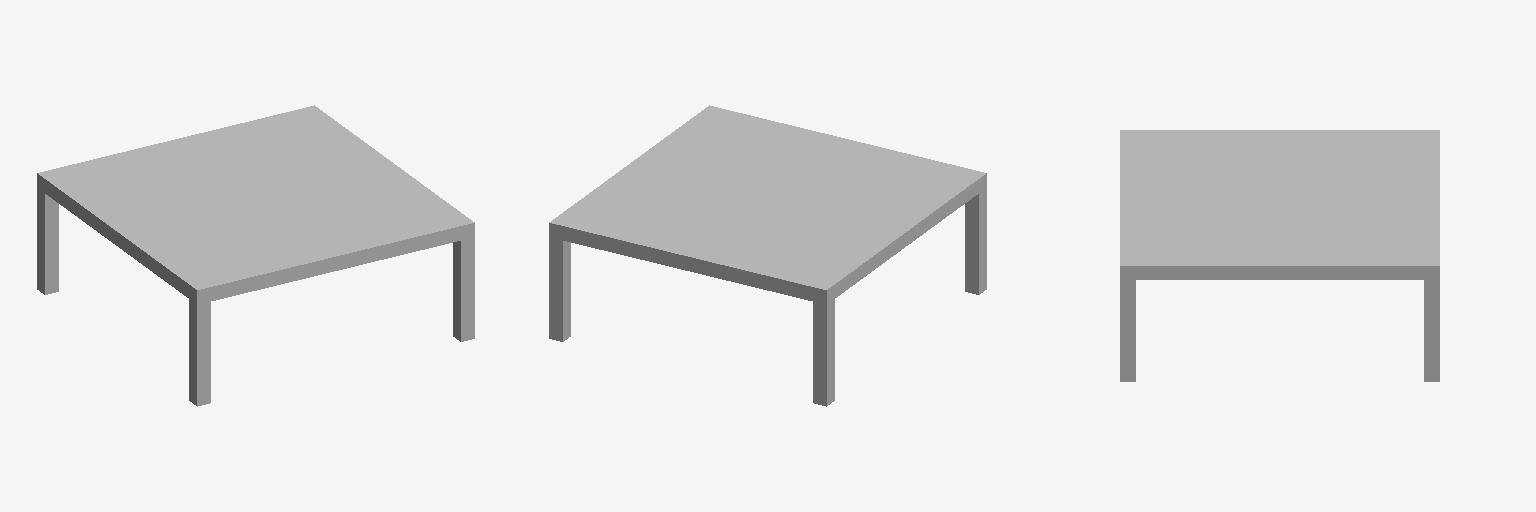
Rendered from tableplain01.obj.
3 renders of one model, left to right at view 1: azimuth 30°, elevation 25°; view 2: azimuth 150°, elevation 25°; view 3: azimuth 270°, elevation 25°, orthographic.
Parts seen in each view (by area): view 1: Cube_Cube.001; view 2: Cube_Cube.001; view 3: Cube_Cube.001.
Part boxes in pixels (x1,y1,x2,y2): Cube_Cube.001: (37,105,474,406); Cube_Cube.001: (549,105,986,406); Cube_Cube.001: (1120,130,1439,381).
Bounding box in the file's own units: 2 × 0.8 × 2.